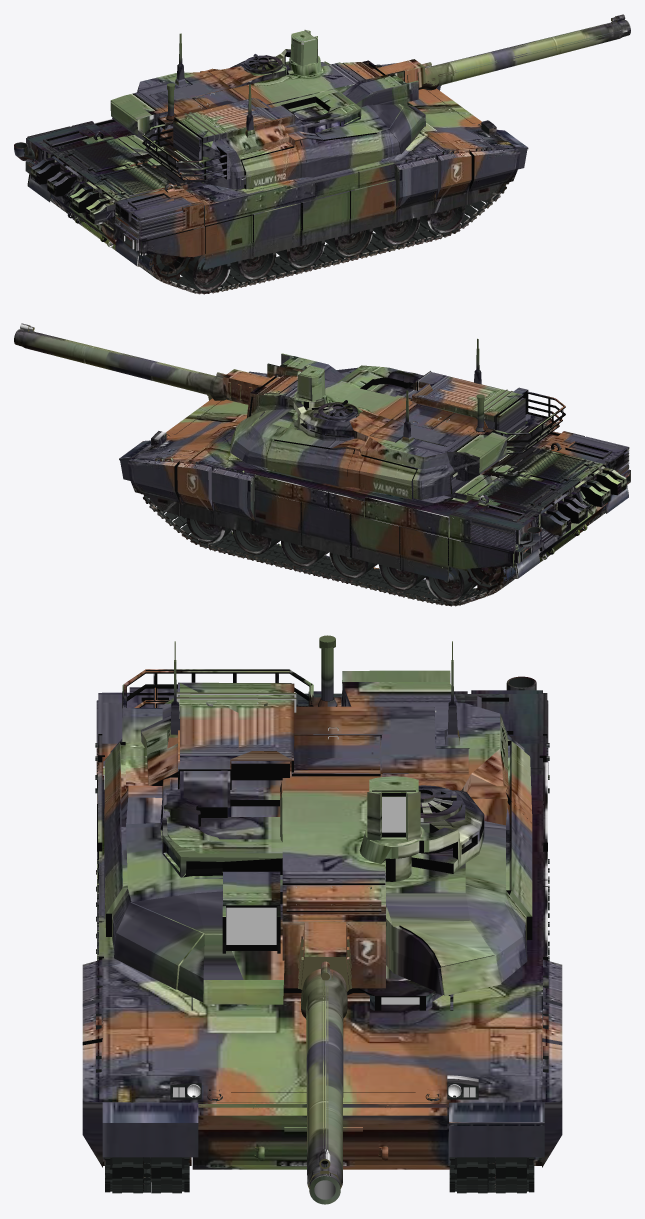
Rendered from char_leclerc_andertan.glb.
3 views of the same model, one above another, from view 1: azimuth 30°, elevation 25°; view 2: azimuth 150°, elevation 25°; view 3: azimuth 270°, elevation 25° (orthographic). The views are drawn at different scales.
Visible parts, largest first — view 1: tank body, turret, Cylinder.086; view 2: tank body, turret, Cylinder.086; view 3: turret, tank body, Cylinder.086.
Part boxes in pixels (x1,y1,x2,y2): tank body: (14, 63, 528, 294); turret: (110, 29, 425, 189); Cylinder.086: (379, 14, 630, 90); tank body: (119, 371, 630, 606); turret: (230, 338, 565, 499); Cylinder.086: (14, 323, 269, 404); turret: (103, 635, 532, 1004); tank body: (82, 676, 562, 1193); Cylinder.086: (298, 922, 351, 1204).
Size of the model in its own units: 6.1 by 1.91 by 2.24.
Materials: 23 (11 with a texture image).
